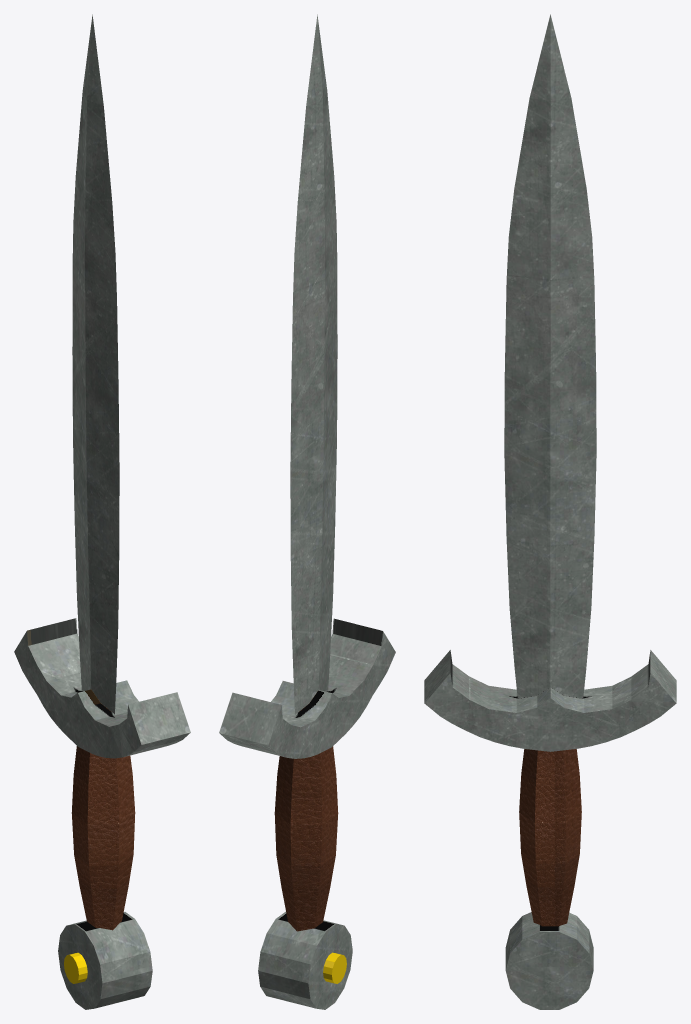
Rendered from Sword.gltf.
The picture shows the model from 3 angles, left to right: view 1: azimuth 30°, elevation 25°; view 2: azimuth 150°, elevation 25°; view 3: azimuth 270°, elevation 25°; orthographic projection.
Parts seen in each view (by area): view 1: Object.3; view 2: Object.3; view 3: Object.3.
Boxes of the visible parts, x1,y1,x2,y2 form: Object.3: (14, 14, 190, 1009); Object.3: (219, 14, 395, 1009); Object.3: (424, 14, 676, 1009).
Bounding box in the file's own units: 0.0627 × 0.9952 × 0.2324.
